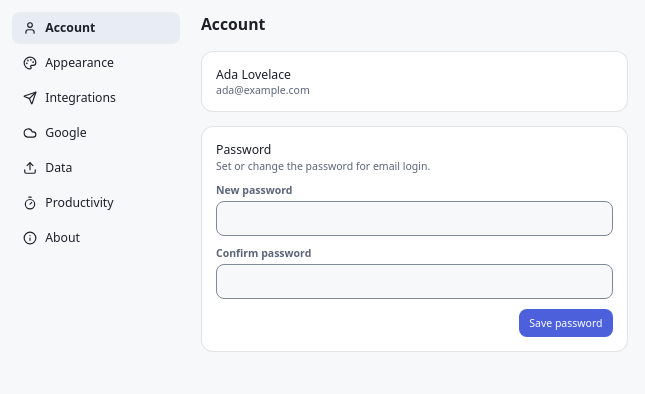
SettingsPage › saves a new account password from the account panel
Type "new-password123" into the password field with test id "settings-password-input".
click(414, 218); type("new-password123")  # box [216, 200, 613, 236]
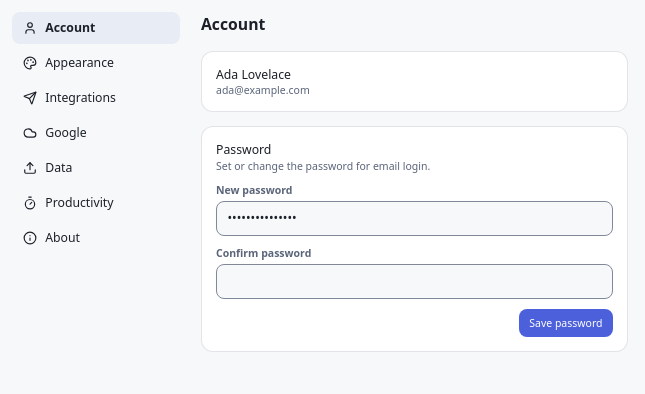
Type "new-password123" into the password field with test id "settings-password-confirm-input".
click(414, 281); type("new-password123")  # box [216, 264, 613, 298]
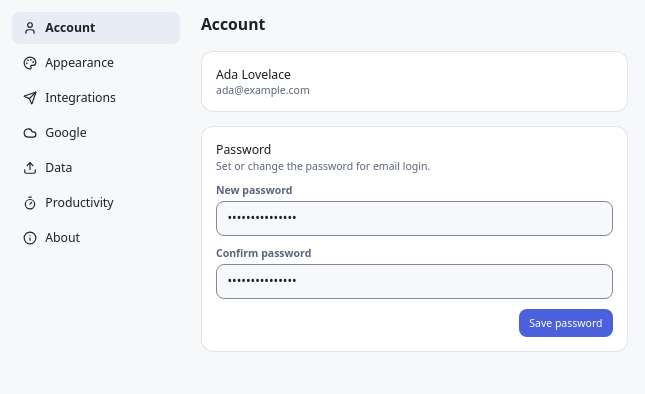
Click the button with test id "settings-password-save-btn".
click(566, 323)  # box [519, 309, 613, 337]
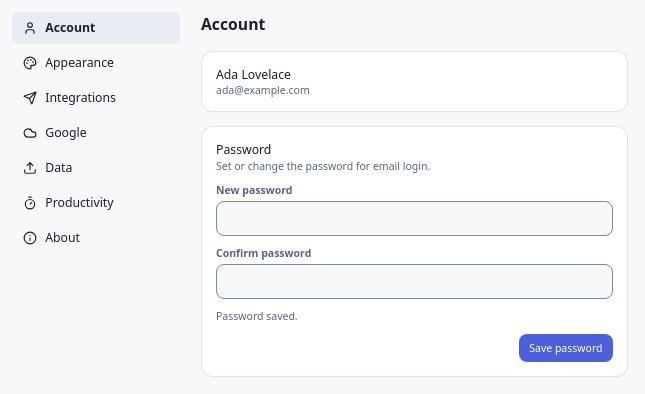
Check: the text with test id "settings-password-success" reads "Password saved.", box [216, 309, 298, 323]
